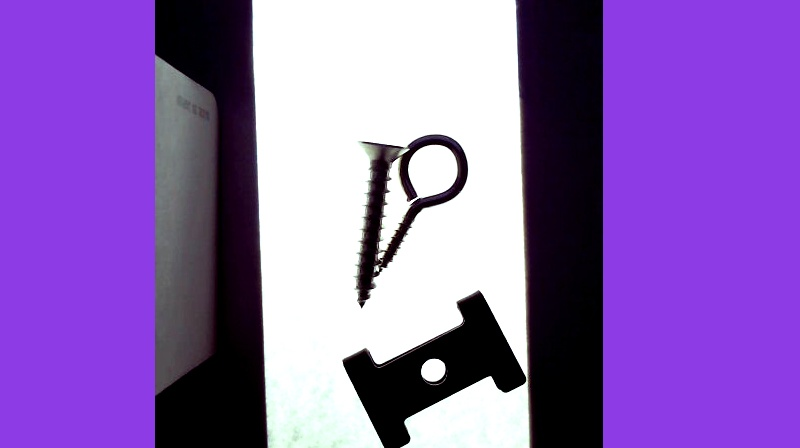O001: (377, 133, 468, 274)
O002: (341, 290, 524, 447)
S001: (353, 140, 408, 309)
